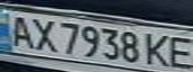3: (100, 26, 121, 61)
7: (54, 20, 81, 56)
8: (118, 28, 142, 64)
9: (78, 24, 103, 58)
A: (3, 12, 36, 48)
E: (163, 34, 193, 71)
K: (142, 30, 175, 69)
X: (27, 16, 60, 53)
